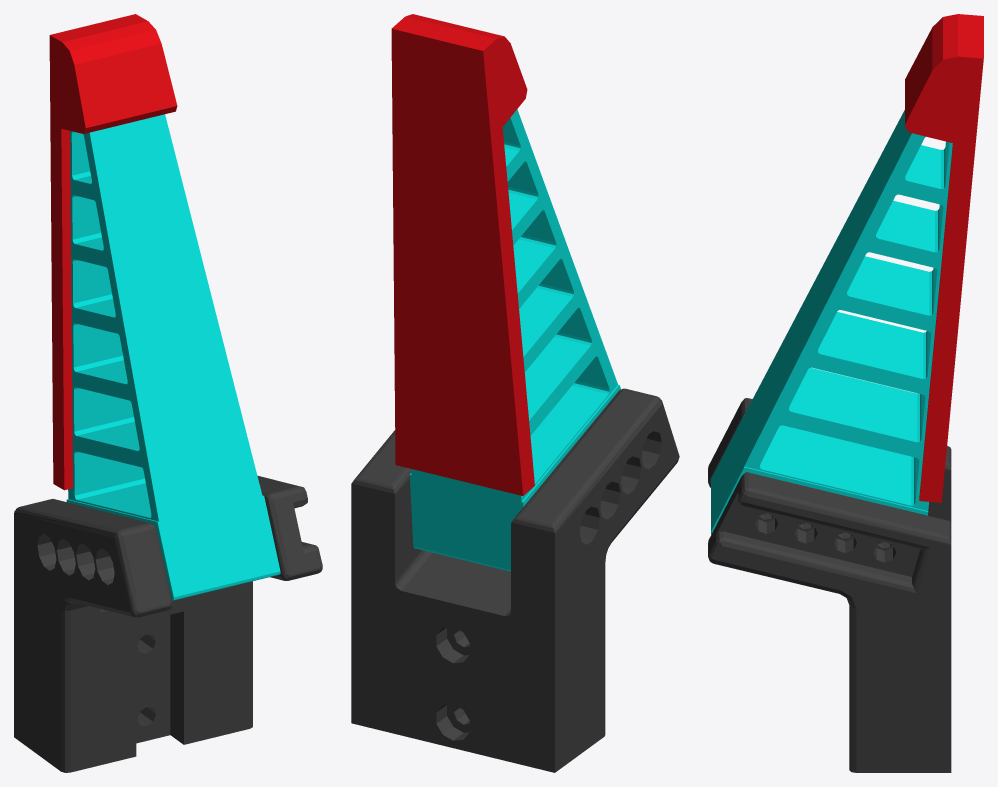
Rendered from pad_link_soft.glb.
The picture shows the model from 3 angles, left to right: view 1: azimuth 30°, elevation 25°; view 2: azimuth 150°, elevation 25°; view 3: azimuth 270°, elevation 25°; orthographic projection. The views are drawn at different scales.
Parts seen in each view (by area): view 1: sz_sw0001.002, sz_sw0001.001, sz_sw0001; view 2: sz_sw0001.001, sz_sw0001, sz_sw0001.002; view 3: sz_sw0001.002, sz_sw0001.001, sz_sw0001.
Boxes of the visible parts, <box> form: sz_sw0001.002: <box>66,114,280,600</box>; sz_sw0001.001: <box>14,475,322,772</box>; sz_sw0001: <box>49,14,177,490</box>; sz_sw0001.001: <box>351,388,679,772</box>; sz_sw0001: <box>391,14,534,495</box>; sz_sw0001.002: <box>409,109,620,571</box>; sz_sw0001.002: <box>711,110,952,532</box>; sz_sw0001.001: <box>708,398,951,772</box>; sz_sw0001: <box>905,14,983,502</box>.
Size of the model in its own units: 0.033 by 0.112 by 0.0406.
